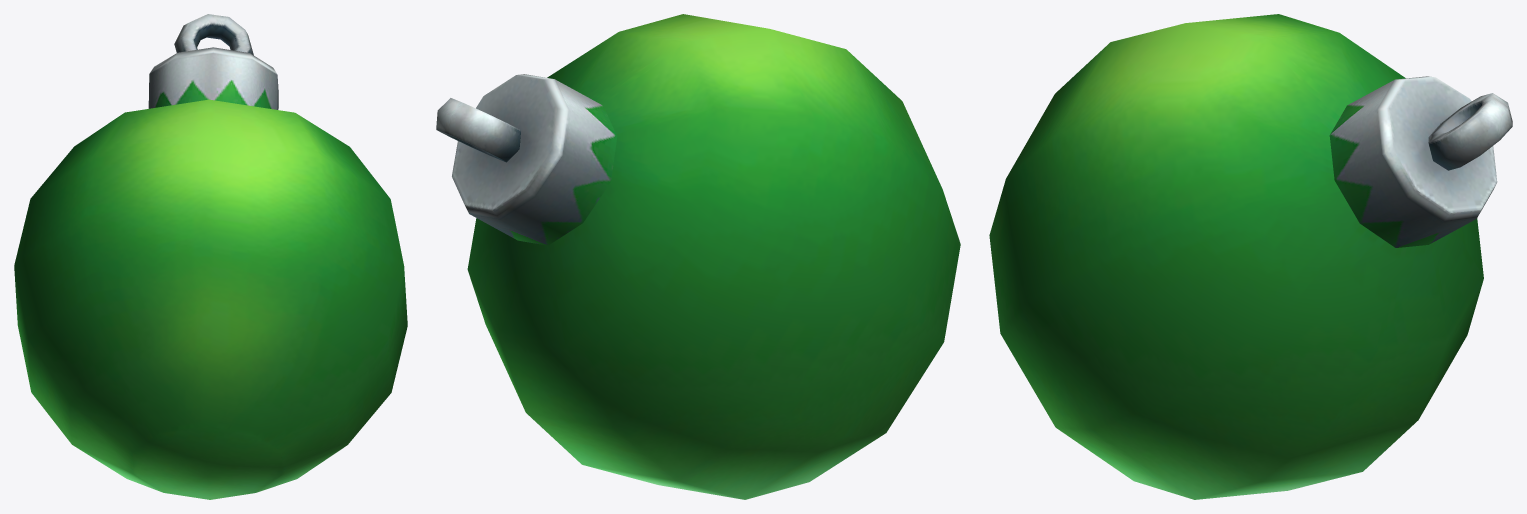
The picture shows the model from 3 angles, left to right: view 1: azimuth 30°, elevation 25°; view 2: azimuth 150°, elevation 25°; view 3: azimuth 270°, elevation 25°; orthographic projection. The views are drawn at different scales.
Parts seen in each view (by area): view 1: BaubleMine; view 2: BaubleMine; view 3: BaubleMine.
Part boxes in pixels (x1,y1,x2,y2): BaubleMine: (14, 14, 407, 499); BaubleMine: (436, 14, 960, 499); BaubleMine: (989, 14, 1512, 499).
Size of the model in its own units: 12.83 by 12.72 by 13.48.
Materials: 1 (1 with a texture image).
